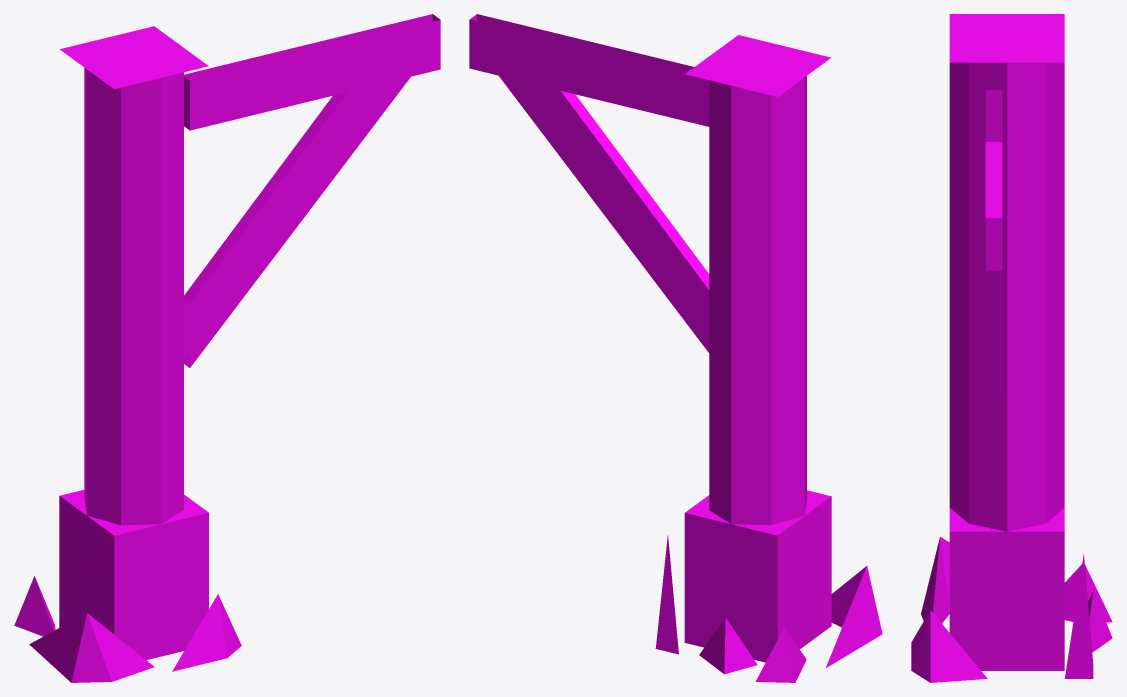
Rendered from Scaffoldsupport.obj.
3 views of the same model, side by side, from view 1: azimuth 30°, elevation 25°; view 2: azimuth 150°, elevation 25°; view 3: azimuth 270°, elevation 25° (orthographic). The views are drawn at different scales.
Parts seen in each view (by area): view 1: Scaffoldsupport_front, Scaffoldsupport_back; view 2: Scaffoldsupport_front, Scaffoldsupport_back; view 3: Scaffoldsupport_front, Scaffoldsupport_back.
Boxes of the visible parts, x1,y1,x2,y2 form: Scaffoldsupport_front: [14, 26, 241, 682]; Scaffoldsupport_back: [184, 14, 440, 367]; Scaffoldsupport_front: [655, 35, 882, 682]; Scaffoldsupport_back: [469, 14, 709, 352]; Scaffoldsupport_front: [911, 14, 1112, 682]; Scaffoldsupport_back: [985, 90, 1002, 391].
Bounding box in the file's own units: 1.98 × 2.8 × 0.84.
